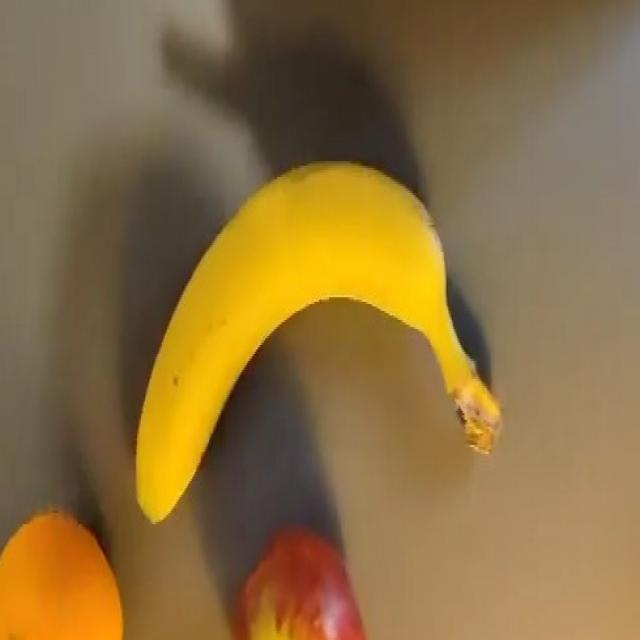Apple: (229, 526, 368, 640)
Banana: (132, 158, 478, 520)
Orange: (0, 511, 129, 640)
